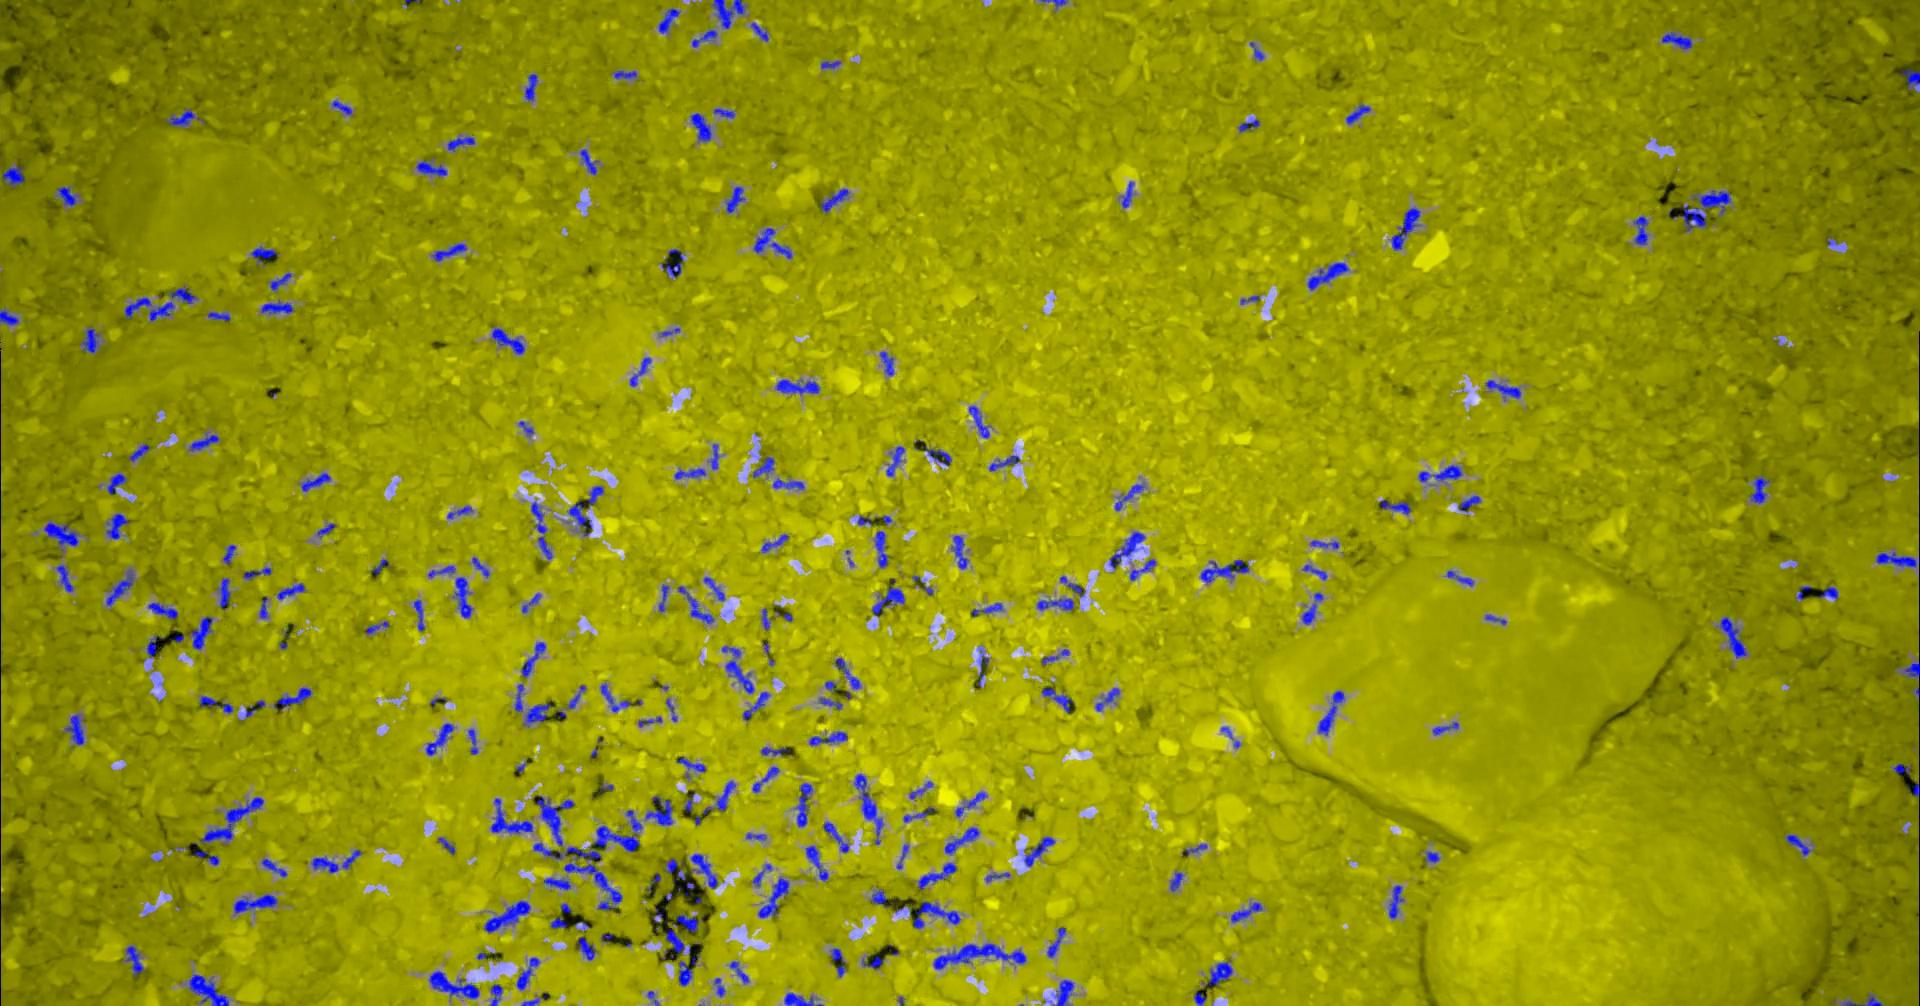ant: (201, 796, 265, 842), (126, 286, 199, 320), (935, 942, 1027, 969), (1683, 189, 1732, 231), (856, 774, 884, 843), (537, 795, 577, 845), (723, 645, 756, 694), (485, 901, 532, 932), (491, 798, 535, 832), (430, 970, 481, 998), (914, 901, 963, 929), (679, 586, 715, 622), (1111, 531, 1145, 568), (1392, 207, 1421, 250), (532, 500, 554, 559), (592, 826, 641, 851), (759, 876, 790, 917), (312, 848, 363, 873), (1319, 690, 1346, 735), (872, 578, 905, 615), (190, 974, 230, 1005), (1721, 616, 1749, 658), (756, 227, 794, 258), (1309, 262, 1350, 290), (1203, 559, 1250, 582), (44, 522, 81, 550), (919, 862, 957, 889), (107, 569, 135, 605), (712, 0, 747, 28), (946, 827, 982, 854), (1026, 836, 1057, 866), (427, 723, 456, 754), (493, 326, 526, 354), (692, 854, 719, 888), (602, 683, 632, 713), (523, 641, 547, 677), (1116, 481, 1145, 511), (1204, 960, 1234, 988), (836, 657, 862, 688), (1043, 687, 1076, 713), (569, 500, 593, 535), (235, 894, 278, 913), (648, 795, 674, 826), (190, 616, 215, 649), (1420, 464, 1464, 481), (744, 691, 771, 720), (1487, 379, 1523, 400), (808, 845, 829, 880), (825, 821, 850, 852), (518, 956, 541, 989), (276, 687, 312, 708), (455, 575, 472, 617), (957, 791, 987, 817), (797, 782, 814, 826), (754, 766, 781, 793), (667, 929, 692, 956), (822, 188, 851, 212), (1303, 592, 1324, 624), (777, 379, 822, 394), (970, 405, 990, 438), (662, 248, 684, 277), (631, 356, 653, 386), (1877, 551, 1920, 567), (1232, 902, 1263, 922), (126, 945, 146, 977), (681, 953, 701, 984), (107, 512, 131, 539), (526, 702, 552, 727), (433, 243, 469, 260), (678, 756, 707, 777), (810, 730, 850, 746), (692, 112, 712, 141), (1751, 474, 1771, 503), (201, 695, 234, 713), (1097, 687, 1121, 711), (1131, 558, 1157, 580), (66, 714, 85, 744), (717, 780, 737, 810), (417, 159, 448, 177), (1663, 30, 1693, 50), (302, 473, 331, 492), (1048, 927, 1067, 956), (1, 164, 25, 187), (660, 8, 682, 33), (705, 575, 726, 601), (1054, 979, 1076, 1005), (168, 109, 201, 126), (952, 535, 969, 568), (926, 445, 952, 465), (888, 446, 905, 476), (762, 533, 790, 553), (1062, 575, 1087, 596), (1787, 835, 1812, 855), (552, 903, 573, 929), (785, 992, 825, 1005), (876, 530, 890, 567), (149, 602, 179, 619), (278, 582, 306, 600), (676, 915, 703, 932), (665, 857, 687, 880), (83, 326, 102, 352), (263, 857, 288, 876), (190, 434, 220, 451), (728, 185, 745, 212), (754, 456, 776, 478), (990, 455, 1021, 470), (1382, 499, 1412, 514), (905, 807, 936, 822), (262, 298, 295, 312), (1043, 648, 1070, 664), (1390, 885, 1404, 918), (832, 948, 848, 976), (1347, 104, 1371, 123), (754, 862, 773, 887), (582, 149, 599, 174), (58, 564, 75, 591), (108, 473, 128, 494), (1037, 598, 1076, 610), (731, 960, 750, 983), (693, 29, 717, 47), (569, 683, 587, 708), (910, 781, 935, 799), (578, 936, 596, 960), (251, 245, 279, 260), (1448, 570, 1476, 586), (1843, 995, 1884, 1005), (450, 136, 476, 151), (270, 272, 293, 290), (973, 602, 1004, 615), (978, 654, 990, 686), (1304, 564, 1328, 580), (1636, 216, 1650, 244), (1901, 69, 1920, 89), (58, 185, 77, 206), (472, 556, 491, 577), (914, 575, 935, 594), (523, 592, 542, 612), (130, 443, 151, 461), (1459, 495, 1482, 512), (1434, 721, 1460, 735), (526, 72, 538, 102), (627, 809, 643, 833), (196, 850, 220, 865), (676, 467, 707, 479), (775, 478, 806, 489), (587, 485, 604, 506), (149, 635, 165, 657), (872, 890, 894, 907), (448, 506, 474, 520), (245, 567, 273, 579), (221, 578, 232, 608), (752, 22, 770, 41), (1123, 180, 1135, 207), (1, 307, 20, 325), (545, 876, 571, 889), (881, 351, 895, 375), (898, 843, 910, 869), (429, 565, 457, 577), (863, 954, 886, 968), (415, 600, 425, 630), (248, 700, 265, 716), (372, 559, 391, 574), (366, 621, 391, 633), (333, 100, 353, 114), (516, 683, 526, 711), (1183, 843, 1208, 855), (1239, 119, 1261, 132), (491, 983, 504, 1005), (439, 837, 456, 854), (660, 584, 670, 611), (1251, 41, 1265, 60), (1820, 586, 1839, 600), (711, 443, 721, 469), (225, 544, 237, 564), (763, 746, 791, 754), (822, 697, 843, 709), (639, 716, 663, 727), (317, 523, 337, 536), (470, 728, 479, 754), (210, 311, 232, 321), (1486, 614, 1509, 624), (1903, 662, 1920, 676), (715, 108, 737, 118), (716, 977, 728, 996), (987, 873, 1011, 882), (1312, 540, 1340, 547), (1041, 0, 1068, 8), (615, 70, 637, 79), (260, 596, 269, 619), (1172, 873, 1183, 890), (822, 60, 842, 69), (1895, 763, 1912, 774), (1195, 991, 1208, 1005), (747, 832, 768, 840), (1909, 782, 1920, 796), (1427, 851, 1441, 862), (763, 608, 771, 629)
